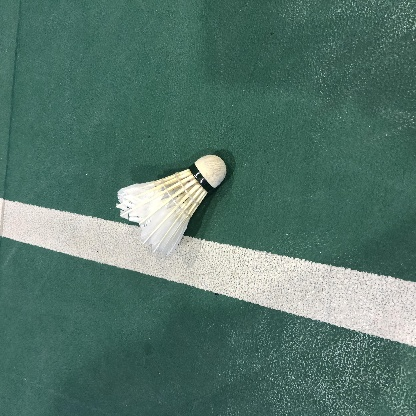ball_single: (116, 155, 226, 257)
